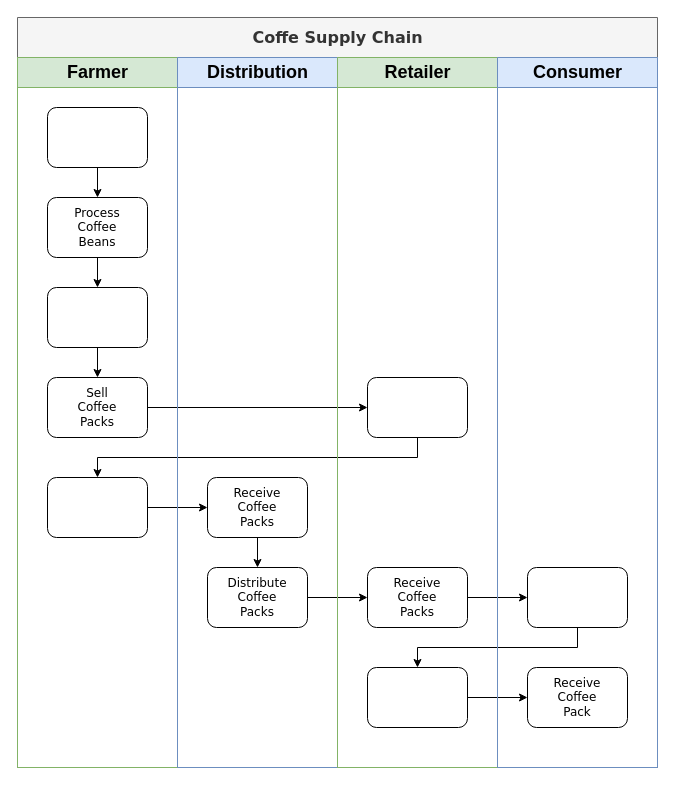
This 675x785 diagram has some shape labels left out. The shapes that lost their labels are listed below. From the top down, each one's centre as x and y in pixels, then its label:
(x=97, y=137): Harvest Coffee Beans
(x=97, y=317): Pack Coffee
(x=417, y=407): Buy Coffee Packs
(x=97, y=507): Deliver Coffee Packs
(x=577, y=597): Buy Coffee Pack
(x=417, y=697): Deliver Coffee Pack
